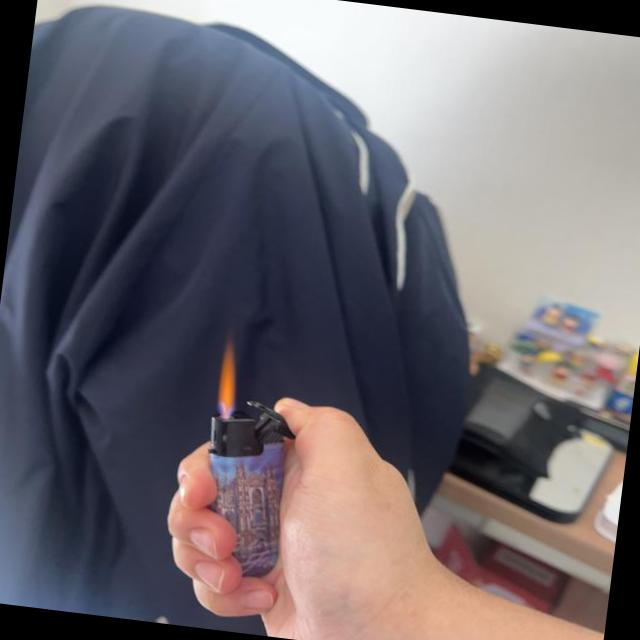Fire: (212, 345, 246, 419)
